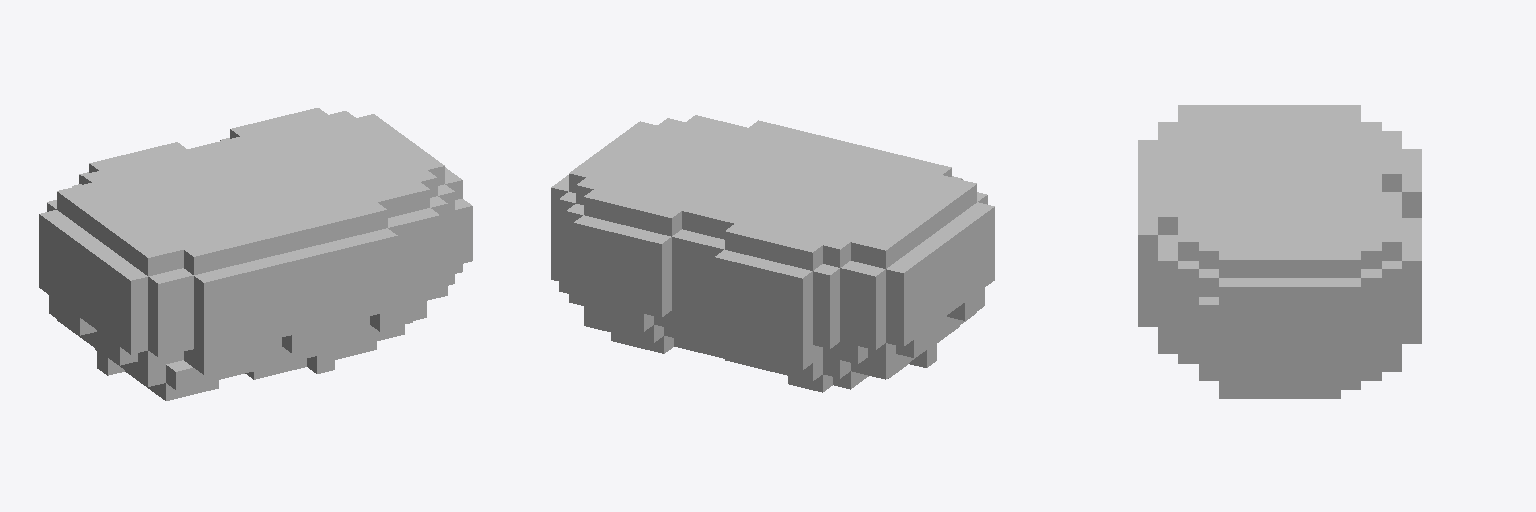
Rendered from ground10_1.obj.
3 views of the same model, side by side, from view 1: azimuth 30°, elevation 25°; view 2: azimuth 150°, elevation 25°; view 3: azimuth 270°, elevation 25° (orthographic).
Parts seen in each view (by area): view 1: ObjObject.011; view 2: ObjObject.011; view 3: ObjObject.011.
Boxes of the visible parts, <box> form: ObjObject.011: <box>39,108,472,400</box>; ObjObject.011: <box>551,115,994,392</box>; ObjObject.011: <box>1138,105,1421,398</box>.
Size of the model in its own units: 2 by 0.8 by 1.4.